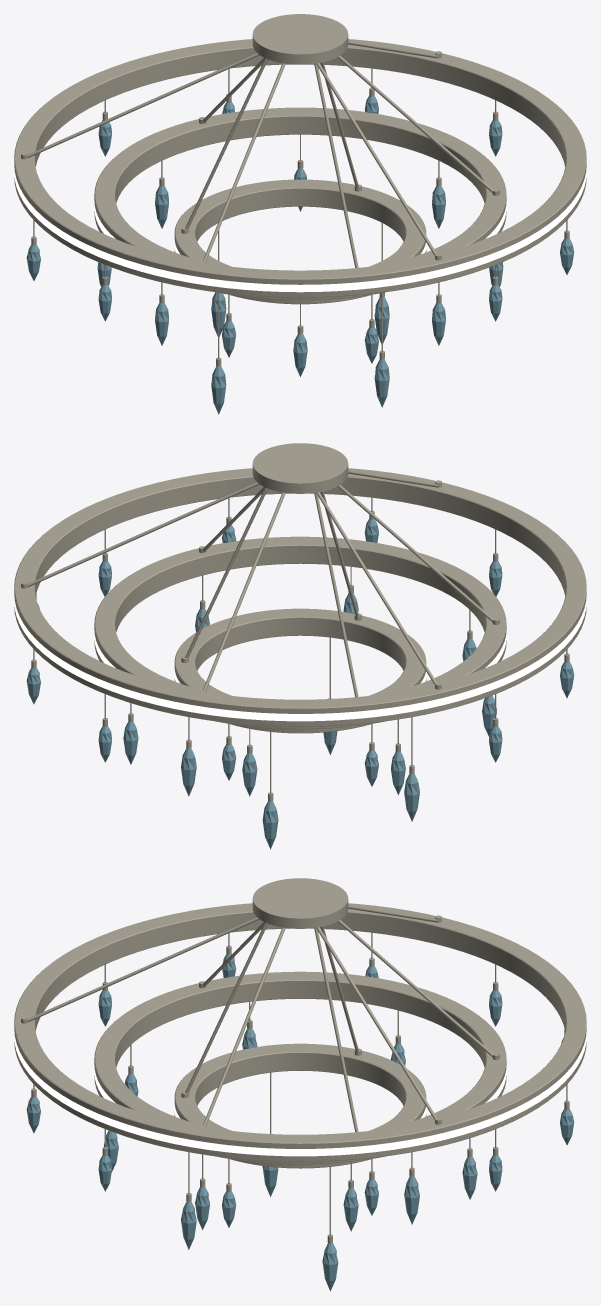
3 views of the same model, one above another, from view 1: azimuth 30°, elevation 25°; view 2: azimuth 150°, elevation 25°; view 3: azimuth 270°, elevation 25° (orthographic).
Parts seen in each view (by area): view 1: FRAME_Chandelier, CRYSTAL_Pendants, LIGHT_Ring; view 2: FRAME_Chandelier, CRYSTAL_Pendants, LIGHT_Ring; view 3: FRAME_Chandelier, CRYSTAL_Pendants, LIGHT_Ring.
Boxes of the visible parts, x1,y1,x2,y2 form: FRAME_Chandelier: [14, 14, 586, 366]; CRYSTAL_Pendants: [26, 96, 574, 414]; LIGHT_Ring: [14, 162, 586, 292]; FRAME_Chandelier: [14, 443, 586, 801]; CRYSTAL_Pendants: [26, 519, 574, 849]; LIGHT_Ring: [14, 591, 586, 721]; FRAME_Chandelier: [14, 878, 586, 1243]; CRYSTAL_Pendants: [26, 954, 574, 1291]; LIGHT_Ring: [14, 1026, 586, 1156].
Bounding box in the file's own units: 3 × 2 × 3.
